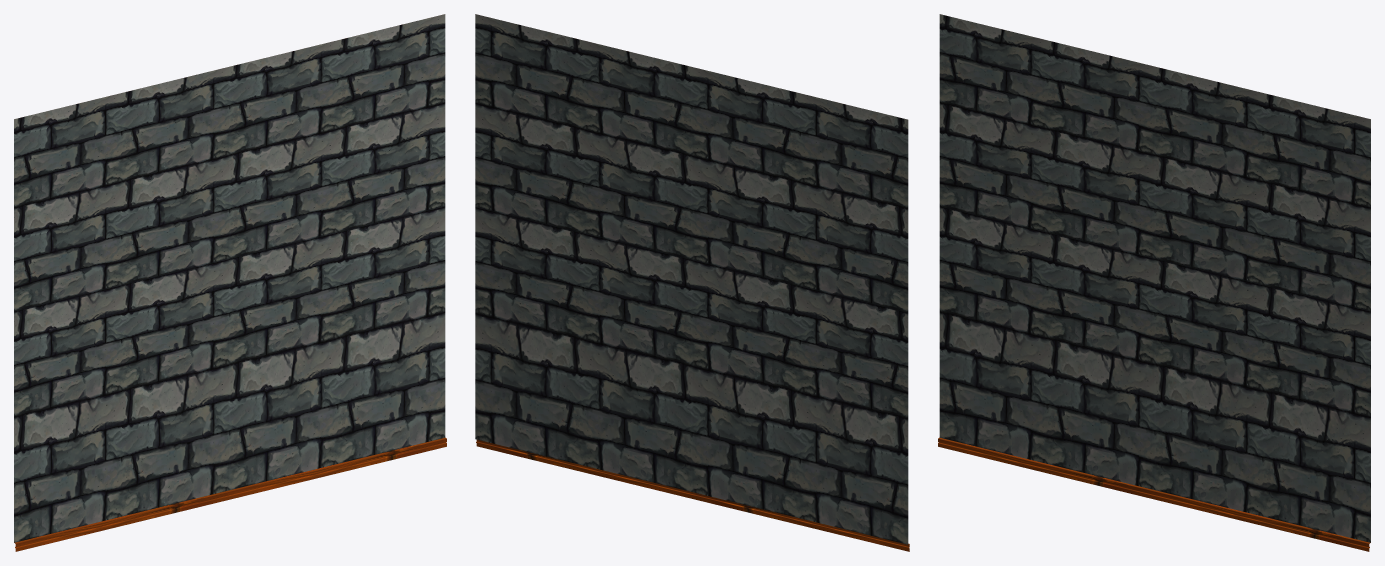
The model's file is Wall.obj.
The picture shows the model from 3 angles, left to right: view 1: azimuth 30°, elevation 25°; view 2: azimuth 150°, elevation 25°; view 3: azimuth 330°, elevation 25°; orthographic projection.
Parts seen in each view (by area): view 1: Wall:group Wall:pPlane11 Wall:polySurface1; view 2: Wall:group Wall:pPlane11 Wall:polySurface1; view 3: Wall:group Wall:pPlane11 Wall:polySurface1.
Boxes of the visible parts, left/top/right/bottom form: Wall:group Wall:pPlane11 Wall:polySurface1: left=14, top=14, right=446, bottom=551; Wall:group Wall:pPlane11 Wall:polySurface1: left=475, top=14, right=909, bottom=551; Wall:group Wall:pPlane11 Wall:polySurface1: left=938, top=14, right=1370, bottom=551.
Size of the model in its own units: 12.75 by 12.19 by 0.0748.
